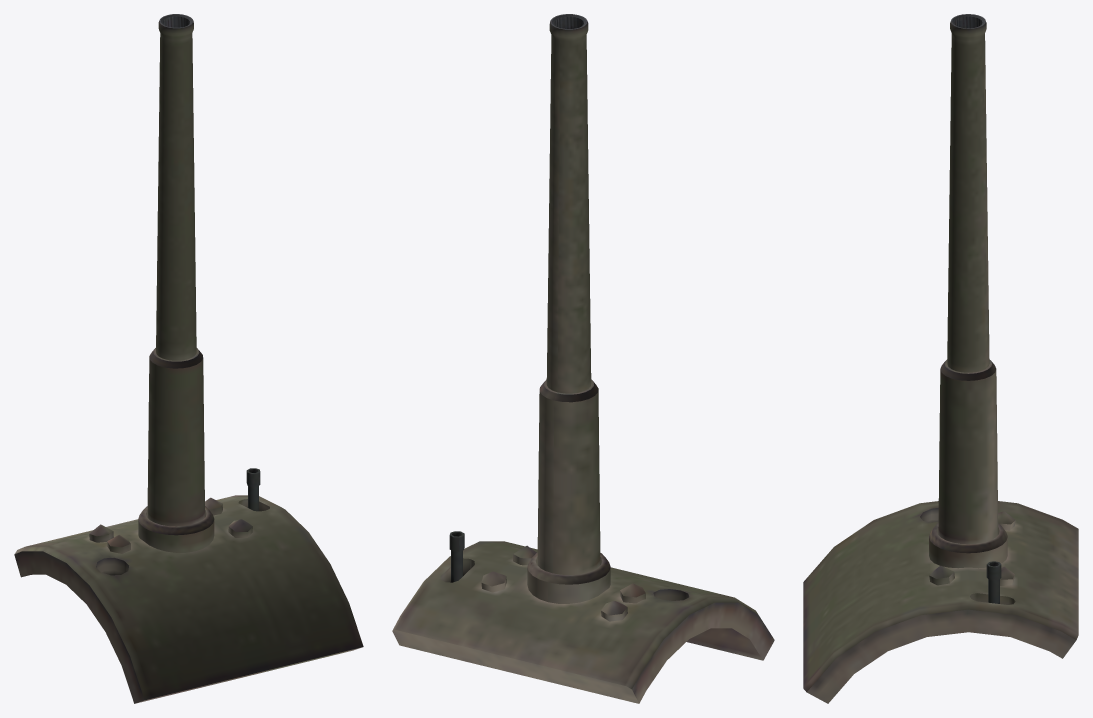
Rendered from Gun_01.glb.
3 renders of one model, left to right at view 1: azimuth 30°, elevation 25°; view 2: azimuth 150°, elevation 25°; view 3: azimuth 270°, elevation 25°, orthographic. The views are drawn at different scales.
Visible parts, largest first — view 1: set_0_group_0; view 2: set_0_group_0; view 3: set_0_group_0.
Boxes of the visible parts, x1=… form: set_0_group_0: x1=14, y1=14, x2=363, y2=703; set_0_group_0: x1=392, y1=14, x2=774, y2=703; set_0_group_0: x1=803, y1=14, x2=1078, y2=703.
Size of the model in its own units: 0.4119 by 1.09 by 0.4334.
1 material, 1 textured.
